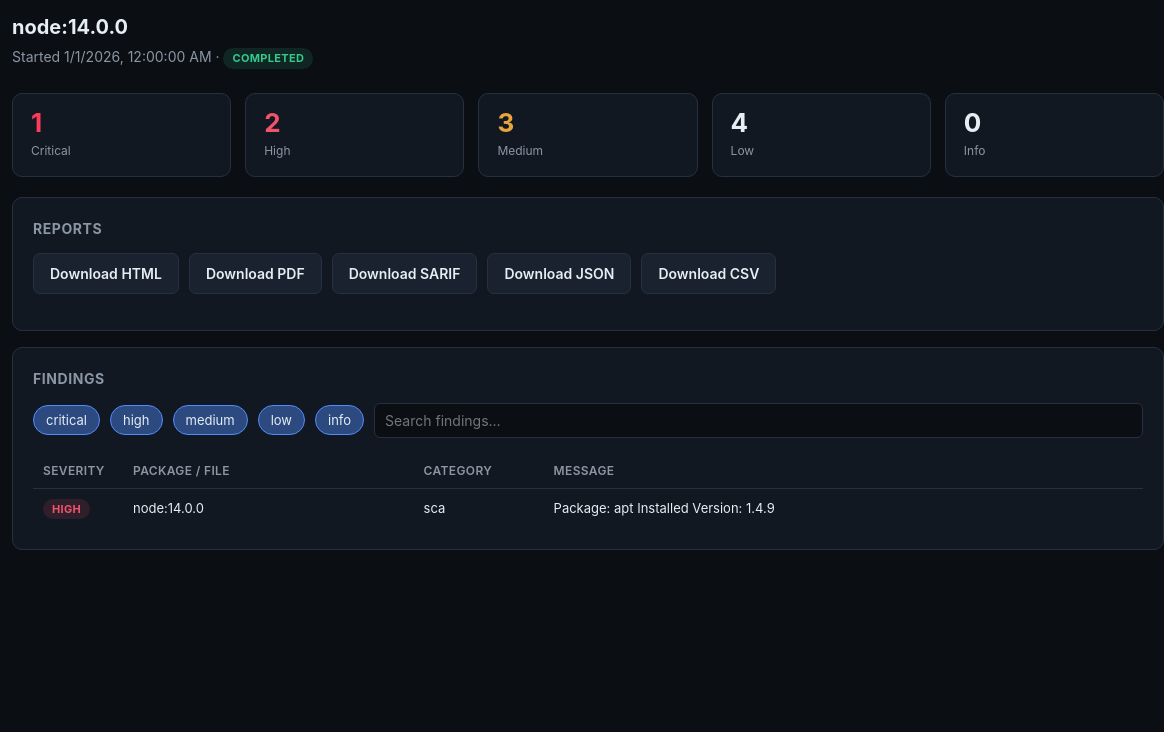
Test: RegistryScanDetail › filters findings by severity, and re-adding a severity brings its findings back
This screenshot has width=1164, height=732.
expect the text "Package: apt Installed Version: 1.4.9" is shown: met, box 544,488 -> 1143,529
Click the button "high".
click(136, 420)  # box 110,405 -> 162,435
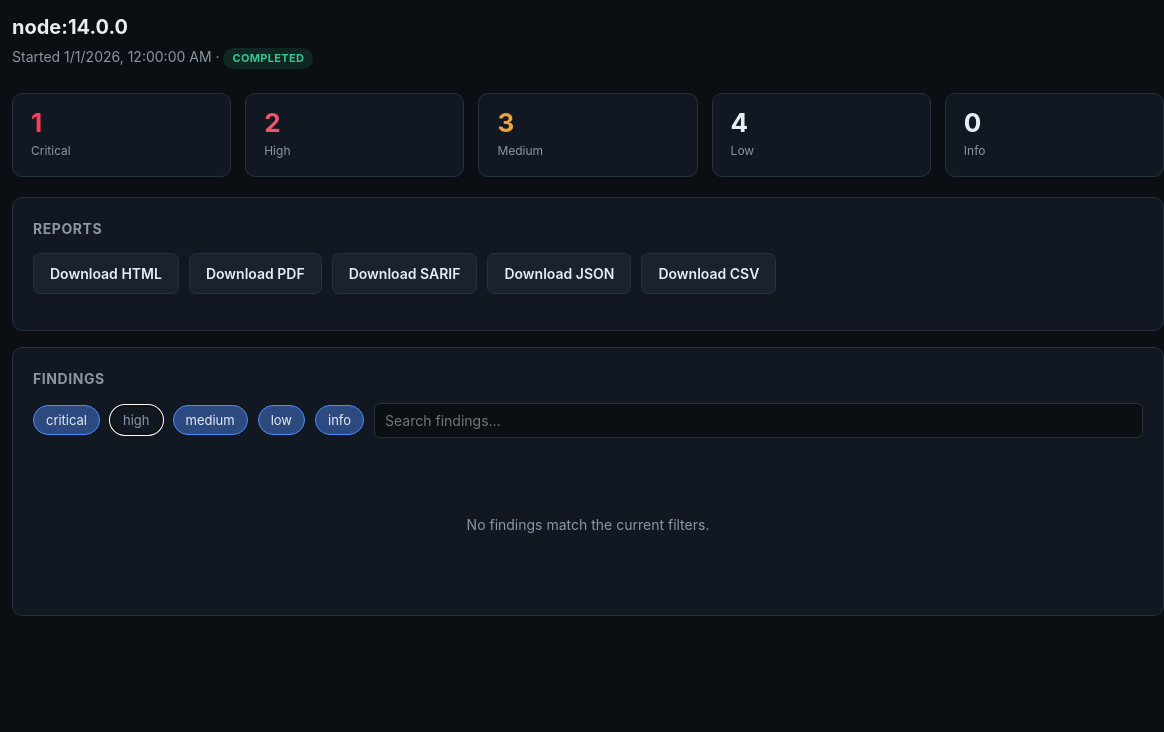
expect the text "Installed Version: 1.4.9" is gone: met
expect the text "No findings match the current filters." is shown: met, box 467,516 -> 709,532
Click the button "high".
click(136, 420)  # box 110,405 -> 162,435
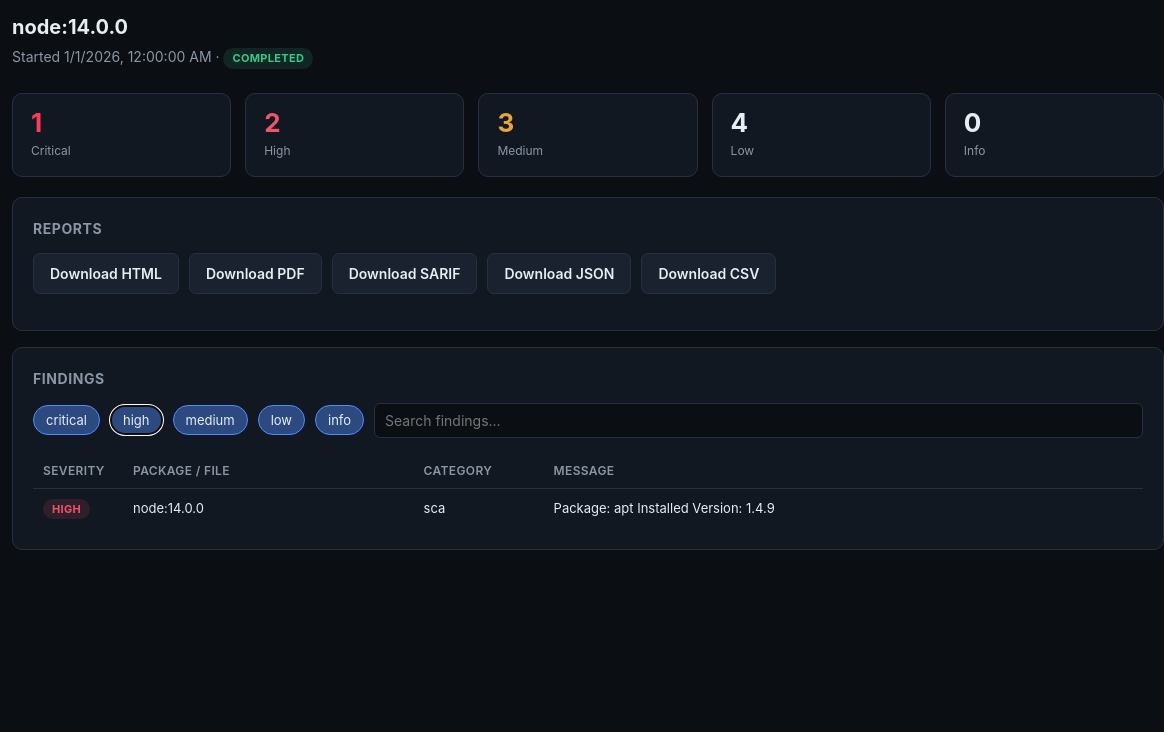
expect the text "Package: apt Installed Version: 1.4.9" is shown: met, box 544,488 -> 1143,529
